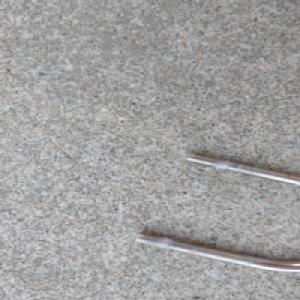ClampPart: (131, 152, 300, 275)
